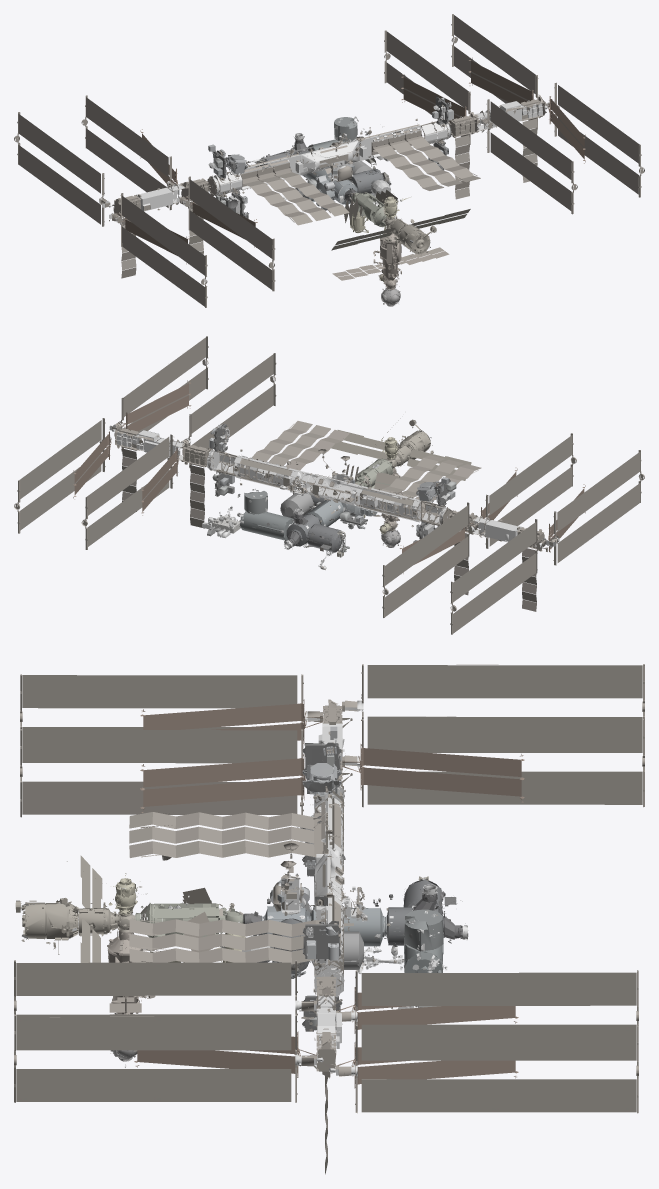
File: iss_lod0.glb
The picture shows the model from 3 angles, top to bottom: view 1: azimuth 30°, elevation 25°; view 2: azimuth 150°, elevation 25°; view 3: azimuth 270°, elevation 25°; orthographic projection. The views are drawn at different scales.
Parts seen in each view (by area): view 1: iss_lod0; view 2: iss_lod0; view 3: iss_lod0.
Boxes of the visible parts, left/top/right/bottom form: iss_lod0: left=14, top=14, right=644, bottom=307; iss_lod0: left=14, top=336, right=644, bottom=634; iss_lod0: left=14, top=664, right=644, bottom=1174.
Size of the model in its own units: 109 by 33.53 by 80.45.
59 materials, 27 textured.
